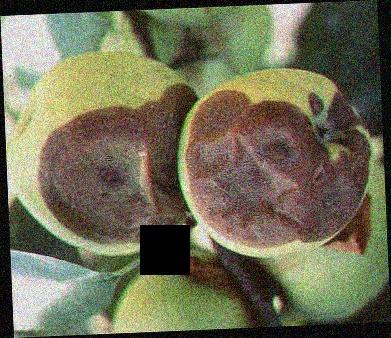rotten apple: (6, 44, 196, 264), (186, 65, 382, 262)
